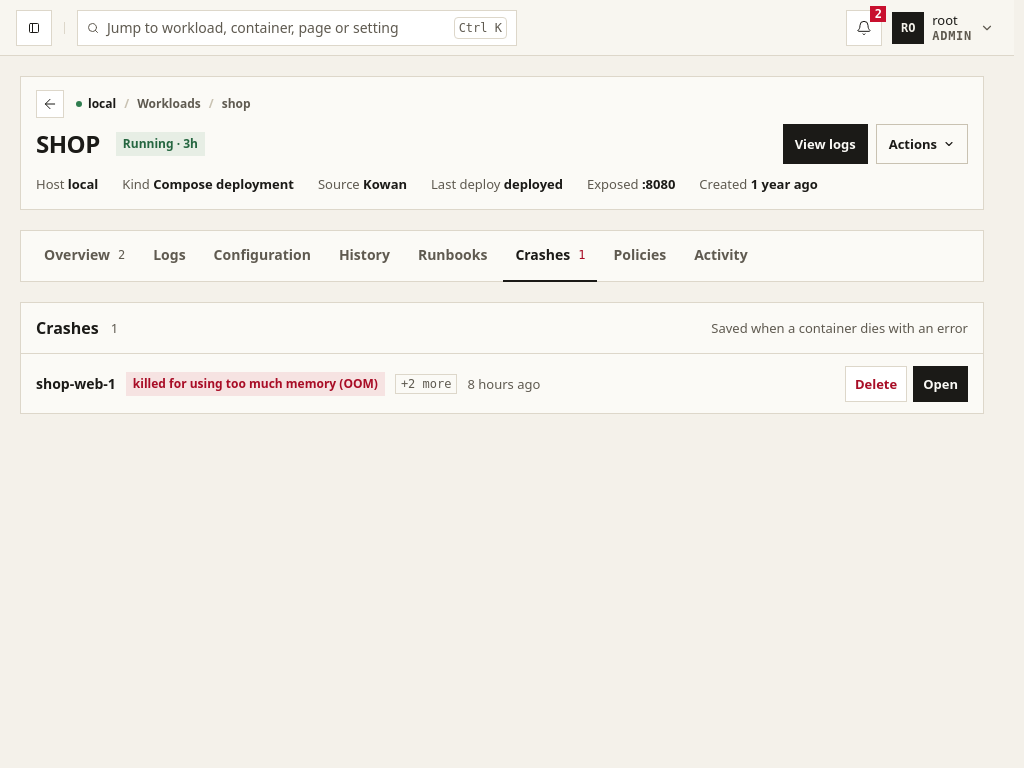
Test case: crash snapshots › lists a workload's crashes and opens one
Expected: the tab "Crashes 1" is shown, [503,230,598,282]
Expected: the text "killed for using too much memory (OOM)" is shown, [126,372,385,396]
What coordinates should you click on to do the following:
click the button with aria-label "open the crash of shop-web-1"
I would click on:
 (941, 384)
Its box is [913,366,968,402].
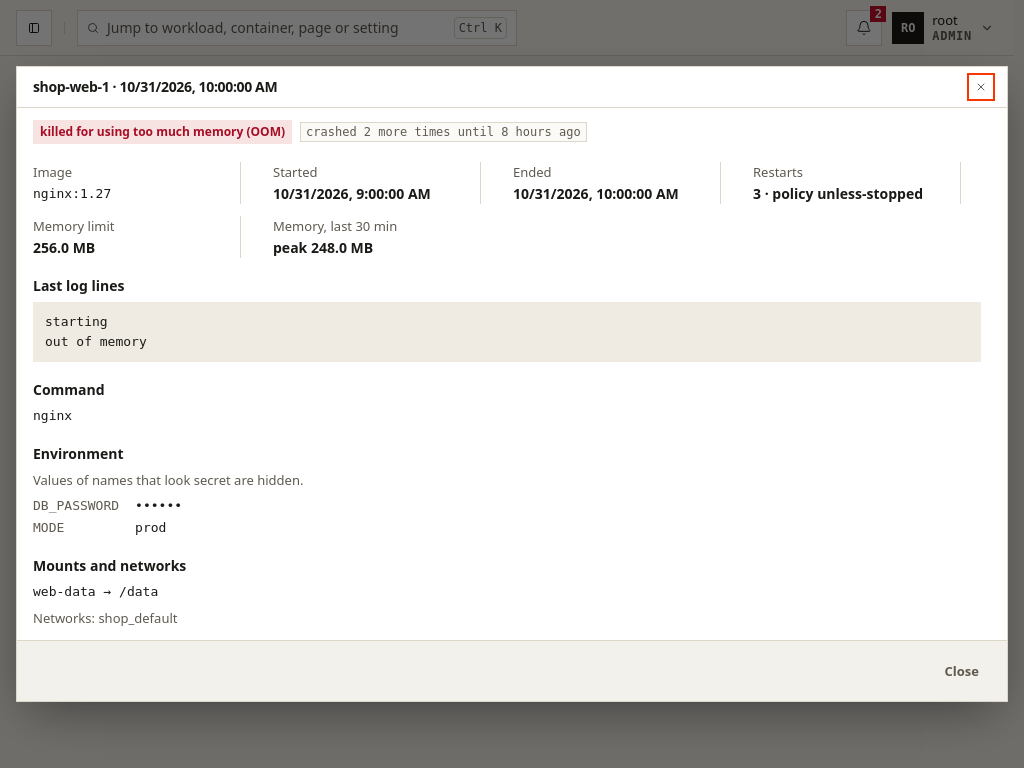
Result: the text "starting out of memory" is shown at [33,302,981,362]
Result: the text "••••••" is shown at [135,498,182,513]
Result: the text "web-data → /data" is shown at [33,584,158,599]
